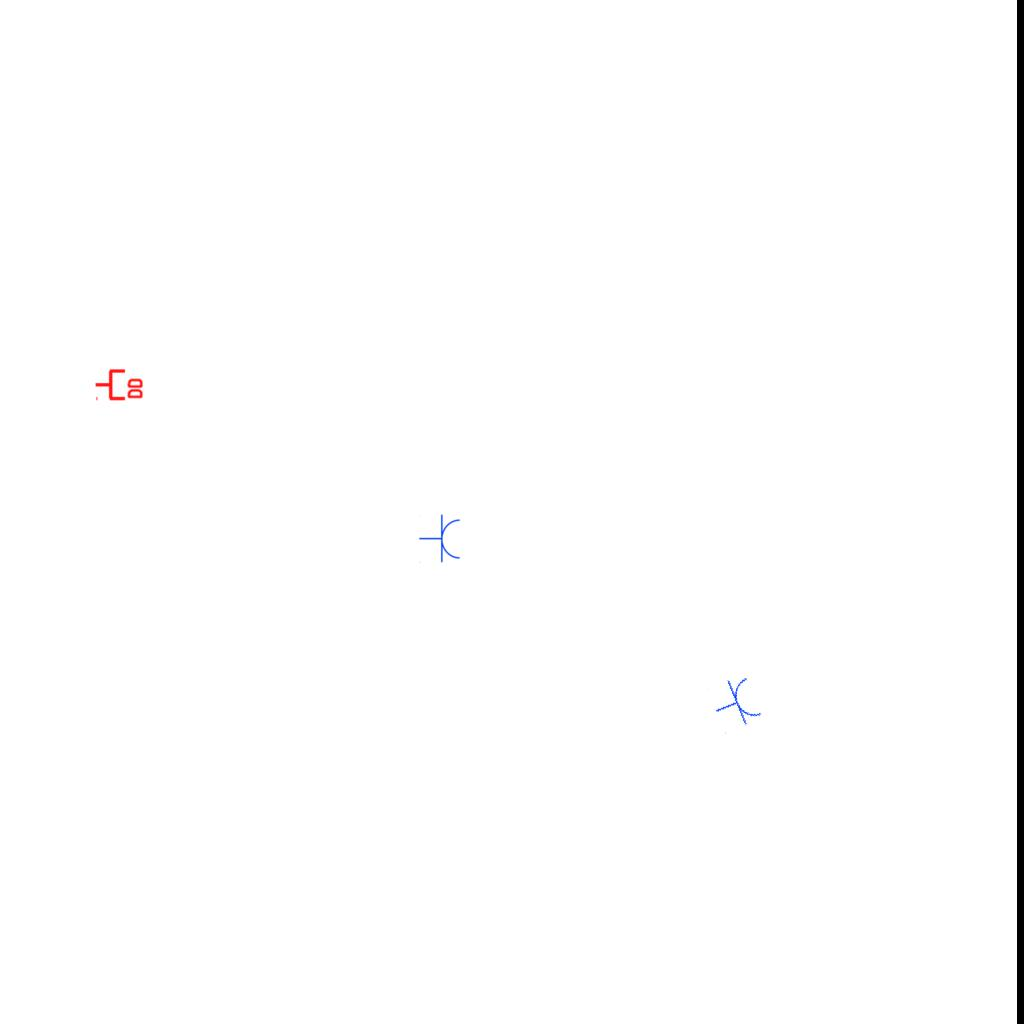Datenanschluss_zweifach: (94, 367, 145, 401)
Schukosteckdose_einfach: (706, 672, 766, 735), (419, 514, 462, 564)
